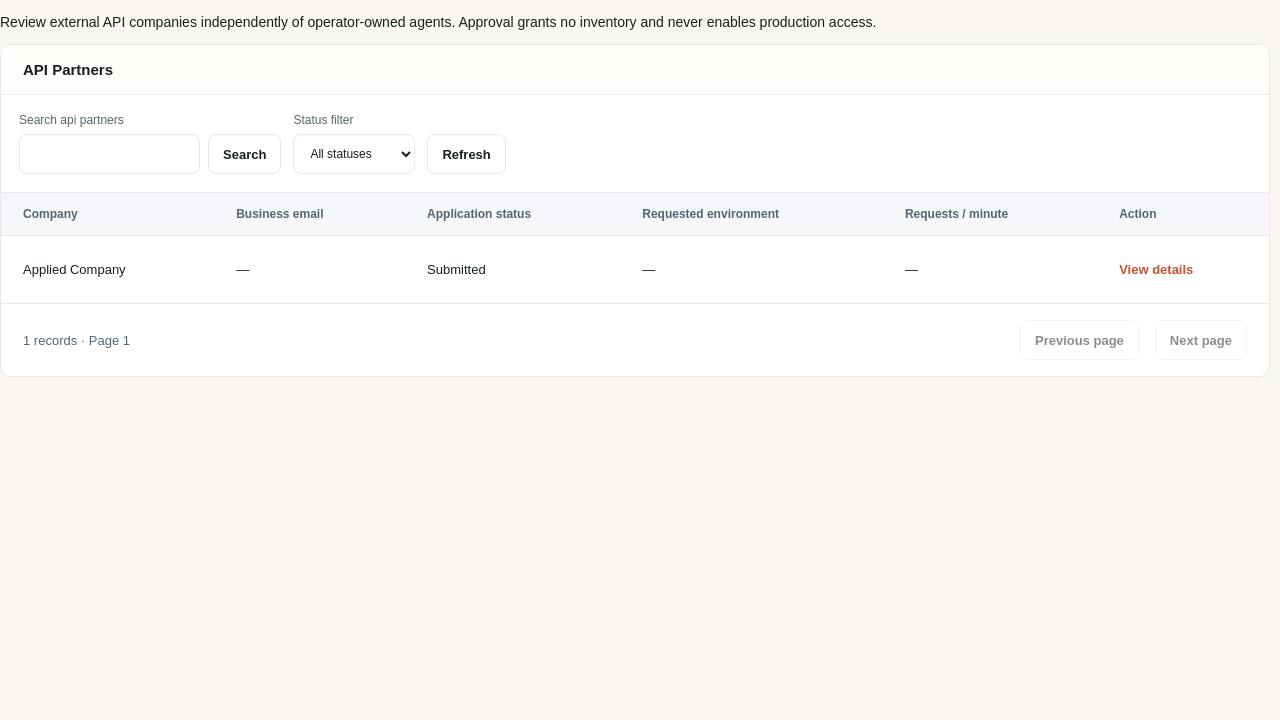
Test case: shows metadata without granting review controls to a read-only platform user
Click the button "View details" at point(1156, 270), box x1=1119 y1=256 x2=1193 y2=283
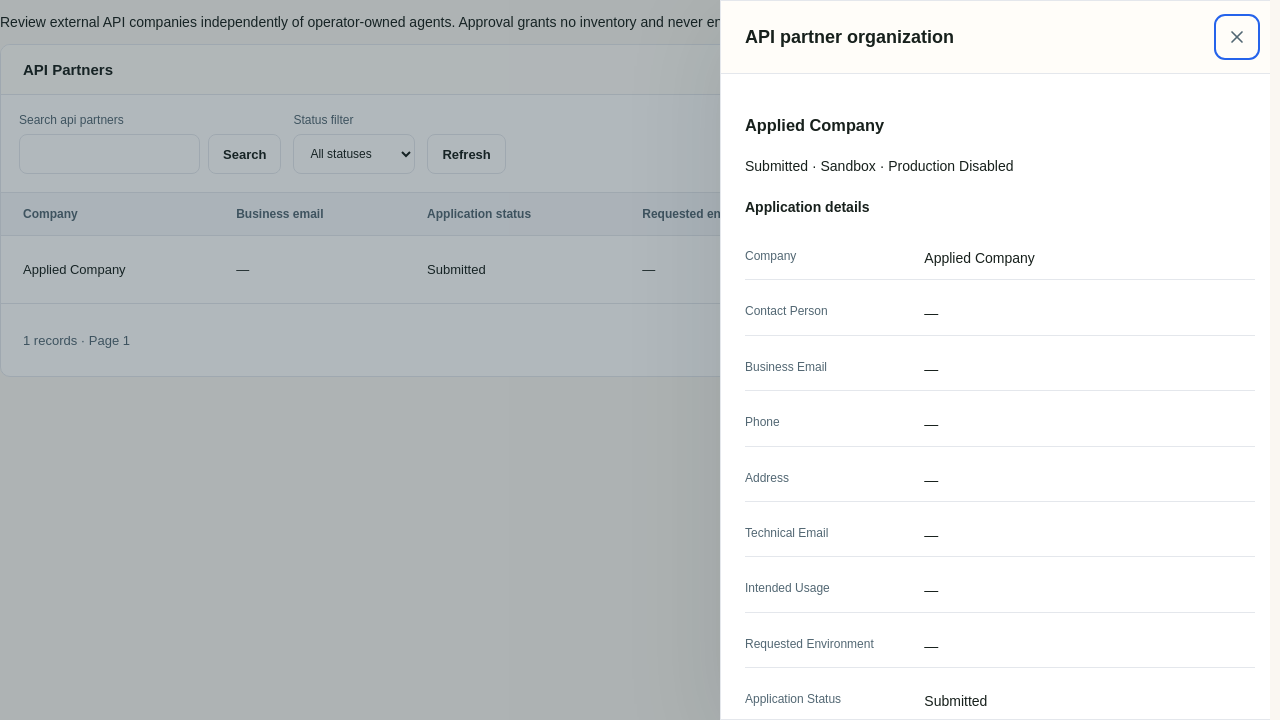
Check: the heading "Application details" is shown, box x1=745 y1=199 x2=870 y2=215
